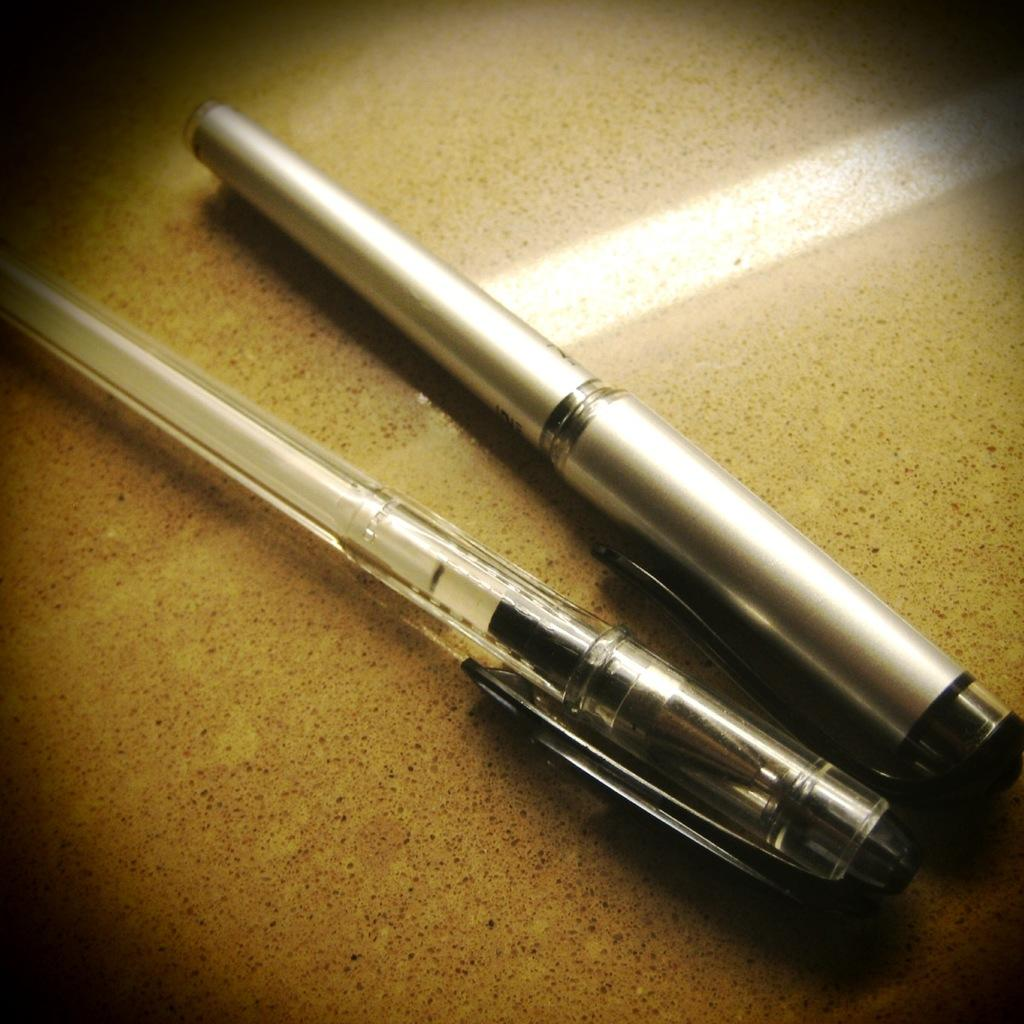pen: (0, 238, 966, 906), (178, 78, 1023, 841)
